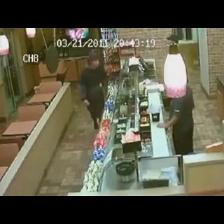person: (158, 86, 194, 155), (80, 52, 107, 129)
